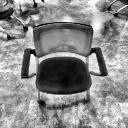chair_success: (20, 20, 110, 106)
